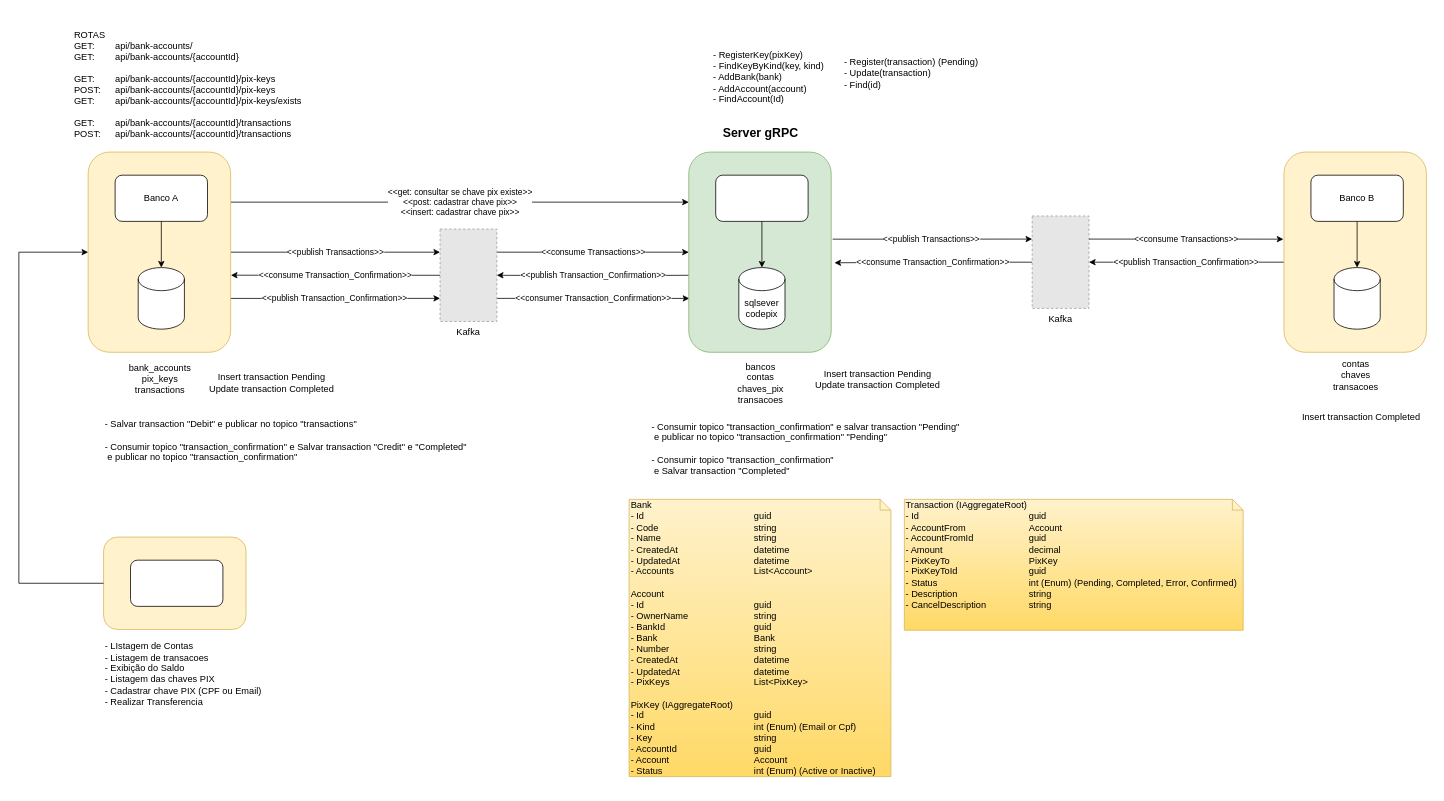
This 1444x801 diagram has some shape labels left out. Grey dashed boxes stand in for pictures. The shapes that lost their labels are listed below. From the top down, each one's centre as x and y in pixels, then its label:
point 761,197: CodePix
point 160,298: sqlserver banco_a
point 1356,298: sqlserver banco_b
point 176,582: FrontEnd
